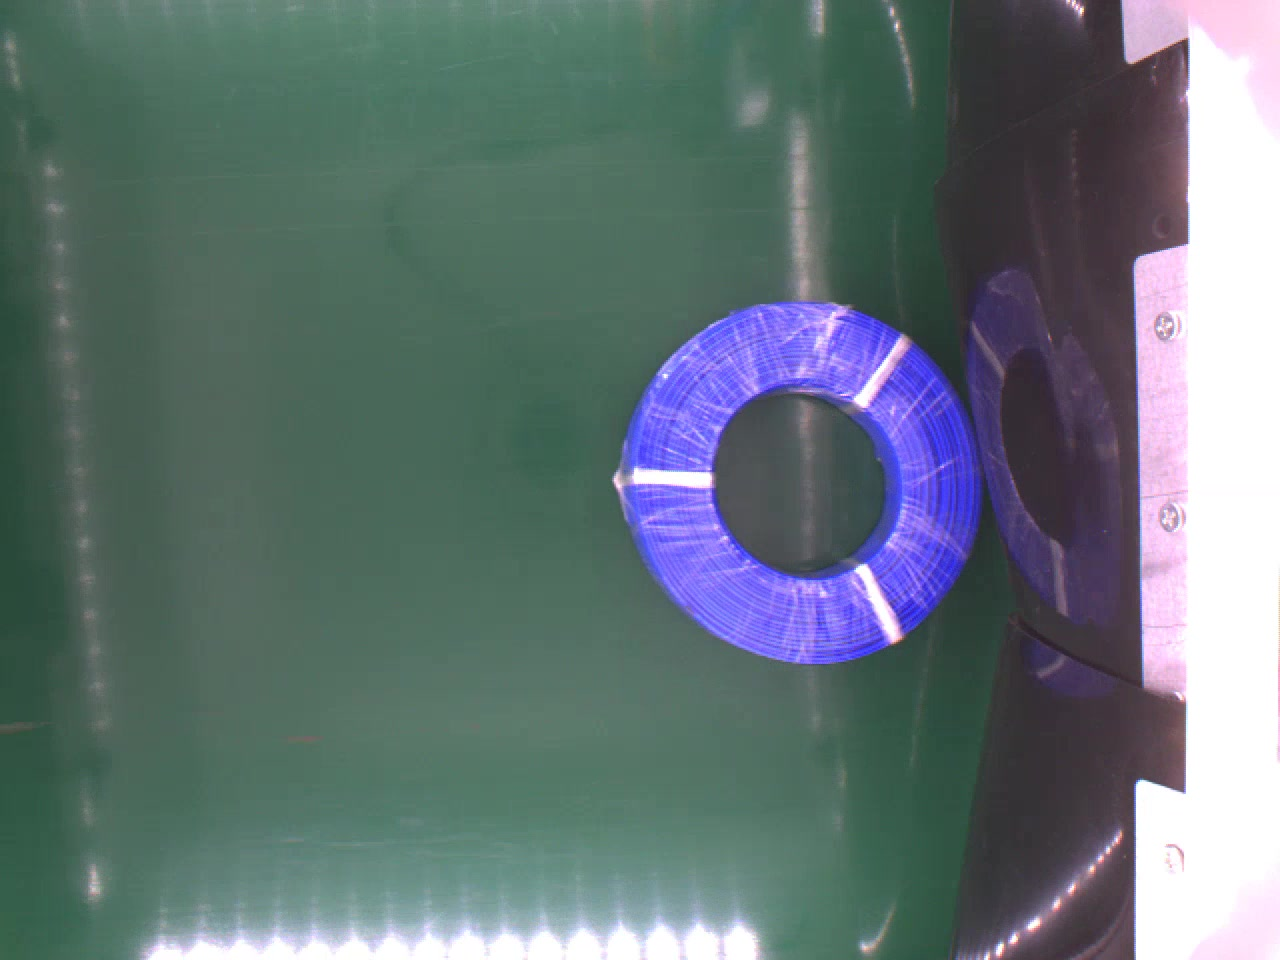blue: (607, 288, 989, 672)
